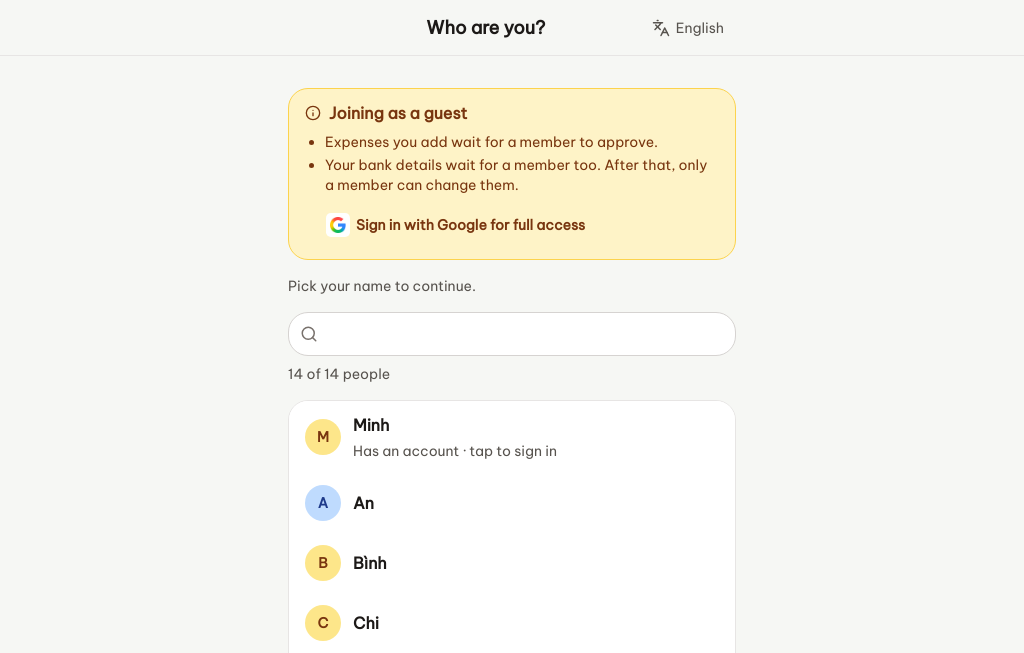
Test: WhoAreYou search › big groups get a search that ignores accents
Check: the text "14 of 14 people" is shown, box [288, 365, 390, 383]
Type "thao" into the search field named "Search names" at (512, 334), box [288, 312, 736, 356]
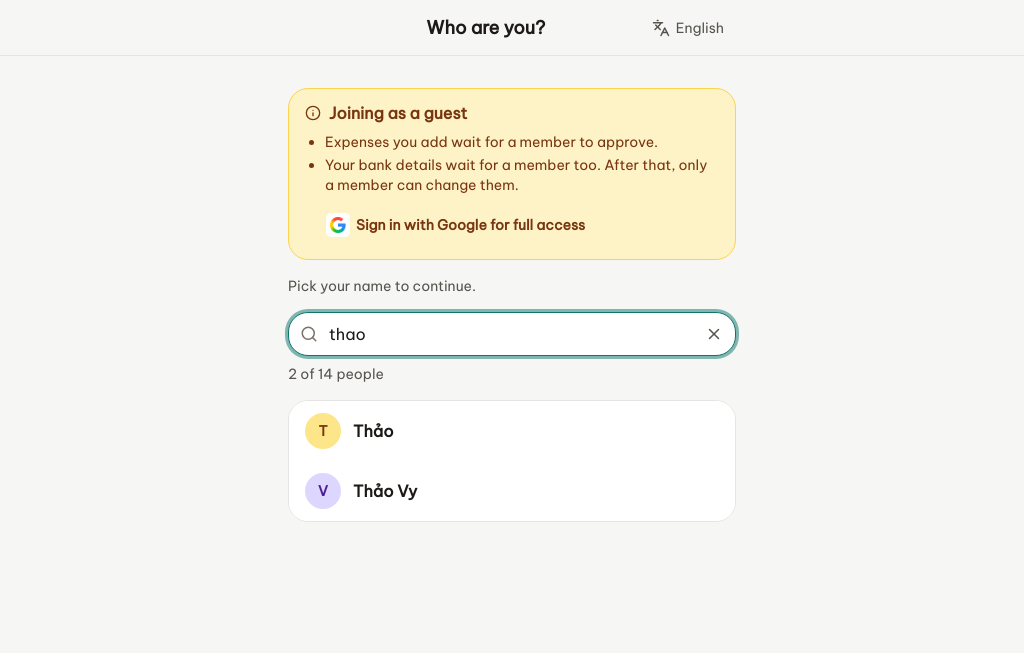
Check: the text "2 of 14 people" is shown, box [288, 365, 384, 383]
Check: the number of radio buttons is 2, box [289, 401, 735, 461]; [289, 461, 735, 521]
Check: the radio button labelled "Chi" is gone
# Case does not matter either, and clearing brings everyone back.
Replace the text in the search field named "Search names" with "DUNG" at (512, 334), box [288, 312, 736, 356]
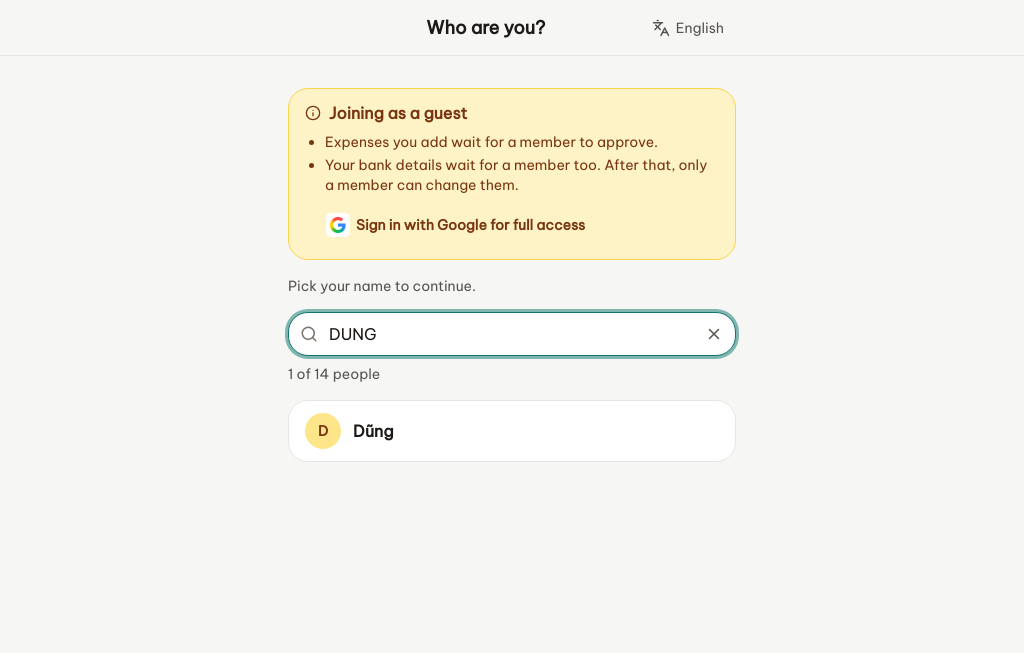
Check: the text "1 of 14 people" is shown, box [288, 365, 380, 383]
Click the button named "Clear search" at (714, 334), box [692, 312, 736, 356]
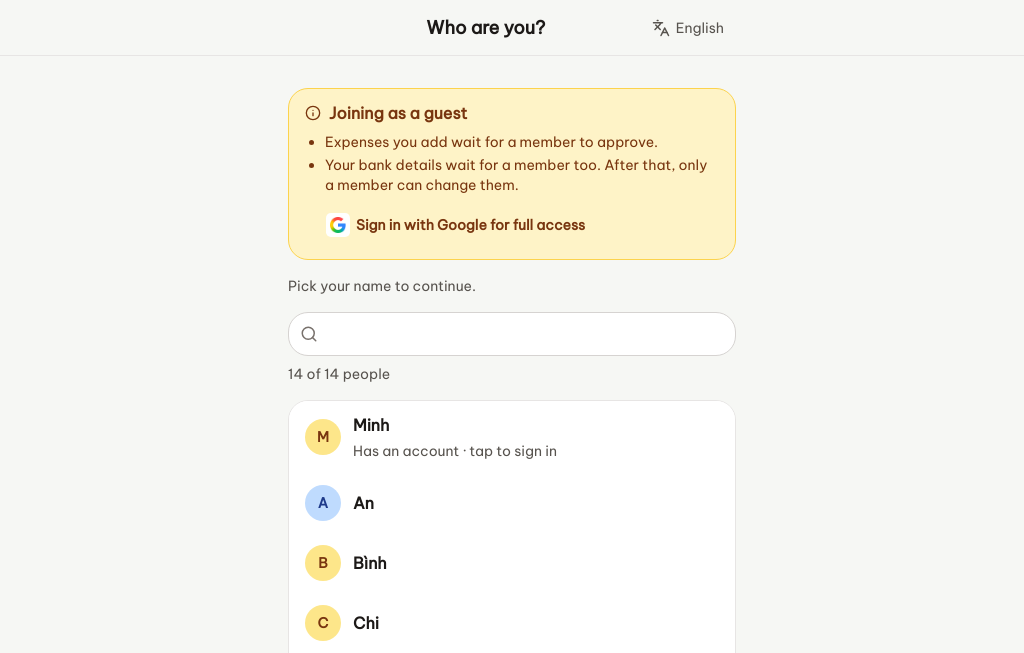
Check: the text "14 of 14 people" is shown, box [288, 365, 390, 383]
